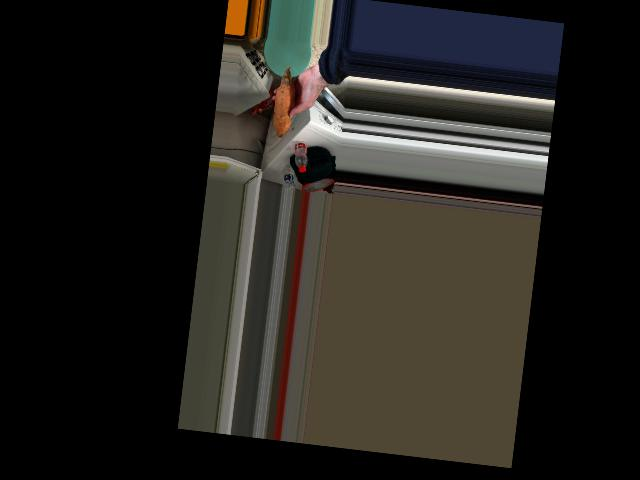sweet_potato: (275, 75, 296, 129)
